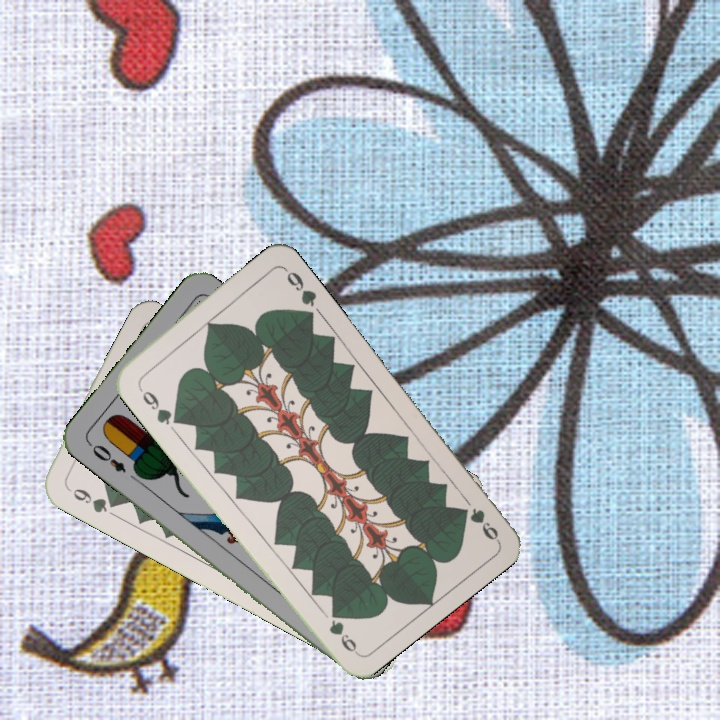EO: (84, 438, 129, 476)
G9: (134, 381, 180, 428), (62, 482, 120, 516), (455, 503, 502, 543)
